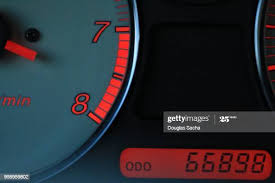Digital_Meter: (116, 150, 270, 180)
